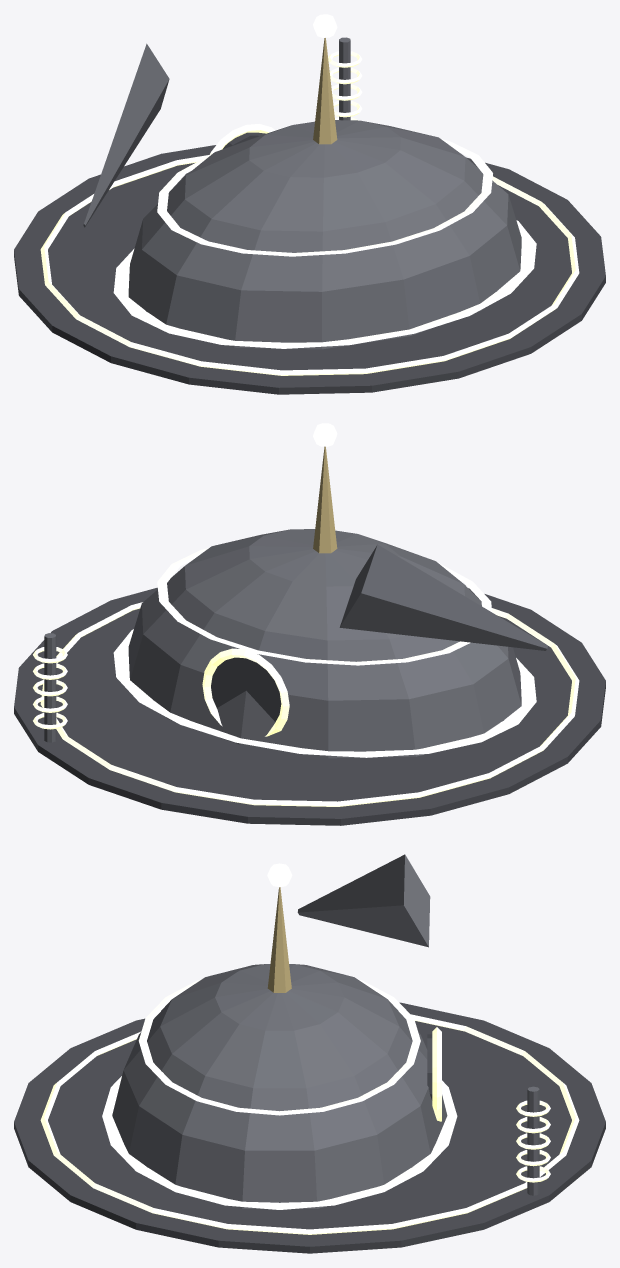
Rendered from zone_low_1_t5.glb.
3 views of the same model, one above another, from view 1: azimuth 30°, elevation 25°; view 2: azimuth 150°, elevation 25°; view 3: azimuth 270°, elevation 25° (orthographic).
Parts seen in each view (by area): view 1: zone_low_1_t5, detail; view 2: zone_low_1_t5, detail; view 3: zone_low_1_t5, detail.
Part boxes in pixels (left/top/right/bottom): zone_low_1_t5: left=14, top=38, right=605, bottom=394; detail: left=40, top=14, right=579, bottom=375; zone_low_1_t5: left=14, top=446, right=605, bottom=825; detail: left=33, top=423, right=579, bottom=806; zone_low_1_t5: left=14, top=854, right=605, bottom=1253; detail: left=40, top=863, right=579, bottom=1234.
Bounding box in the file's own units: 19.6 × 9.67 × 19.6.
